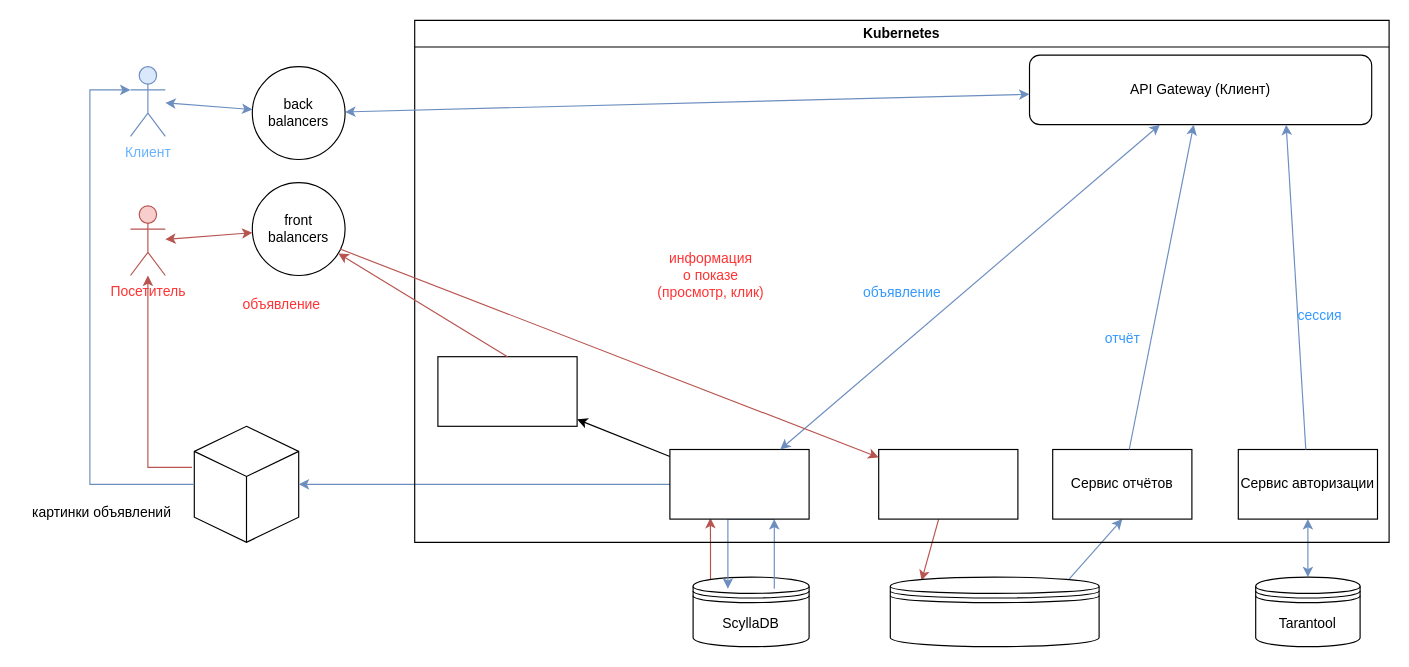
This 1409x667 diagram has some shape labels left out. Each missing label, with the centre of its shape:
ClickHouse: the point at 994,611
S3: the point at 246,483
Сервис отдачи объявлений: the point at 507,391
Сервис подбора объявлений: the point at 739,483
Сервис сбора статистики: the point at 948,483
